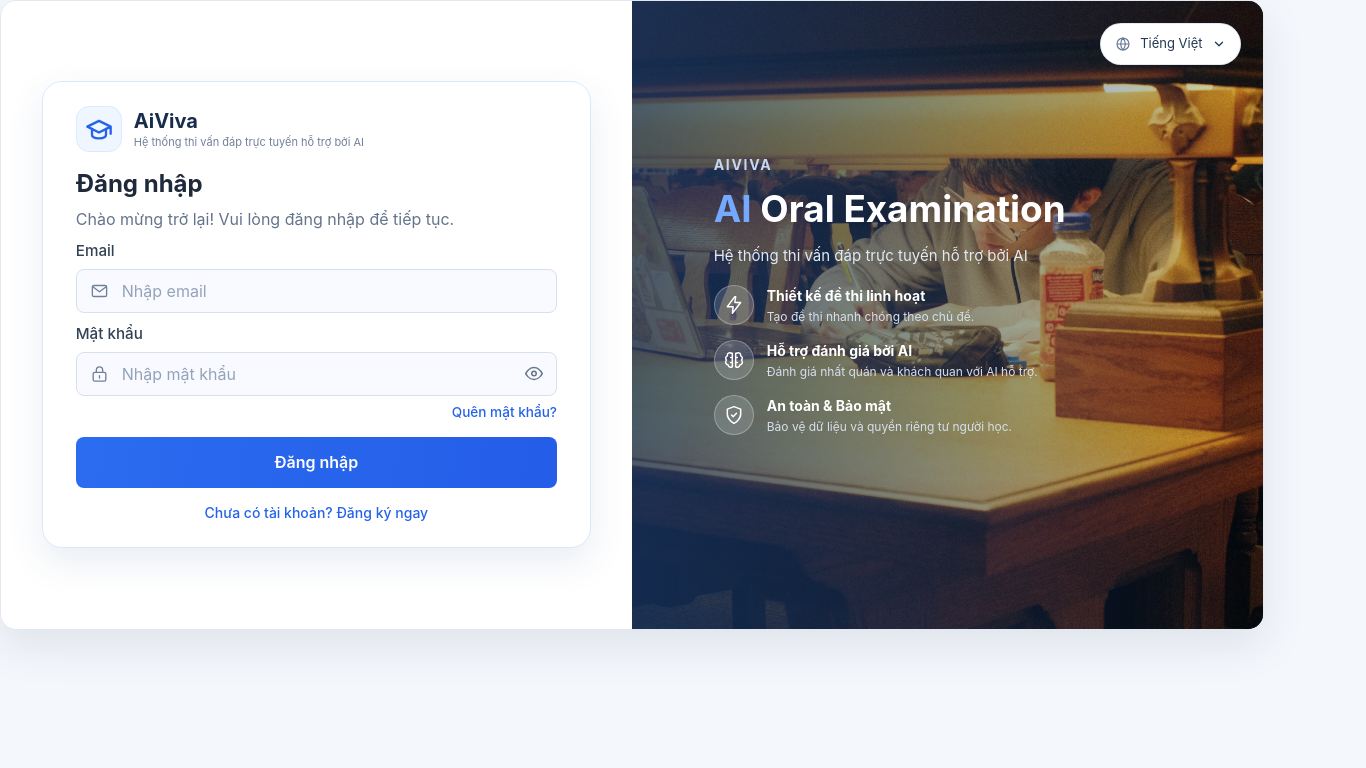
it: LoginPage › keeps the login form and reports an error when authentication fails
In the field labelled "Email": (316, 291) [76,269,557,313], type "student@example.com"
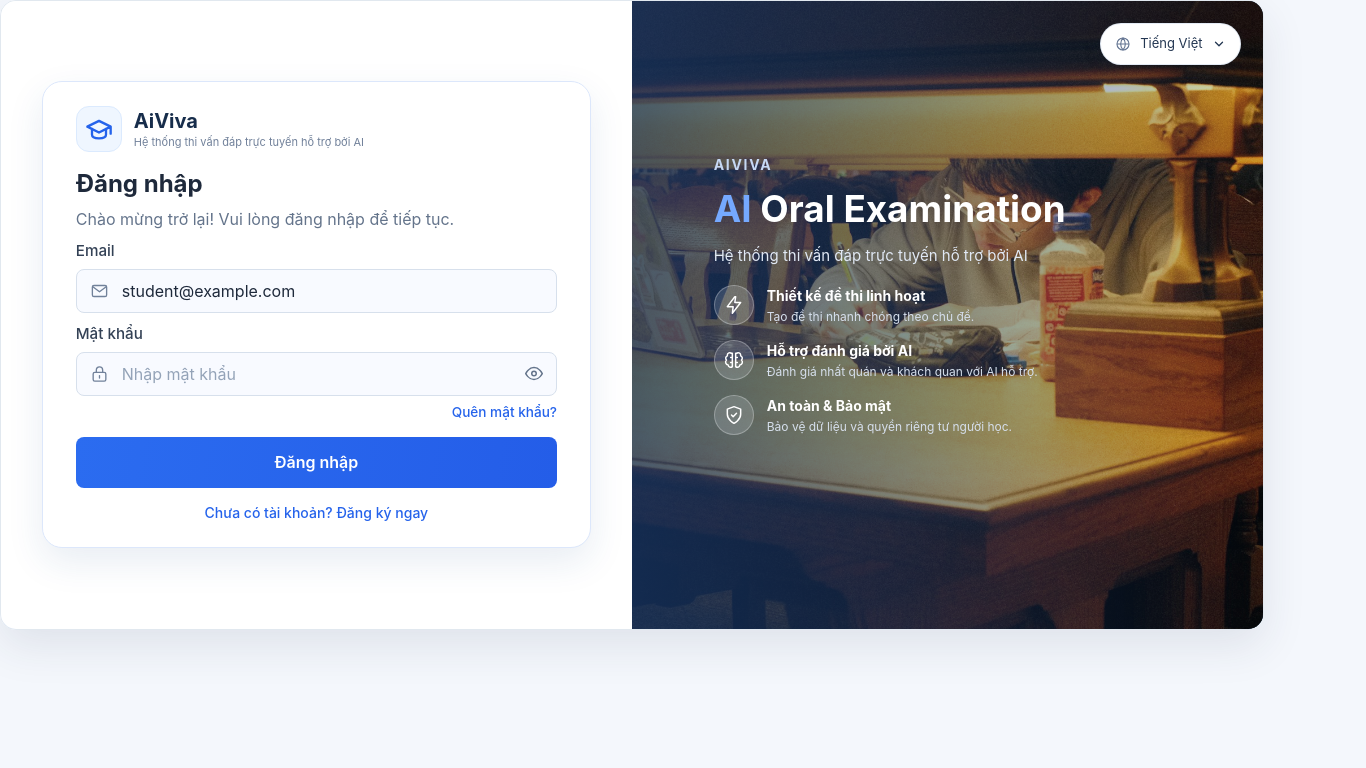
In the password field labelled "Mật khẩu": (316, 374) [76,352,557,396], type "wrong"
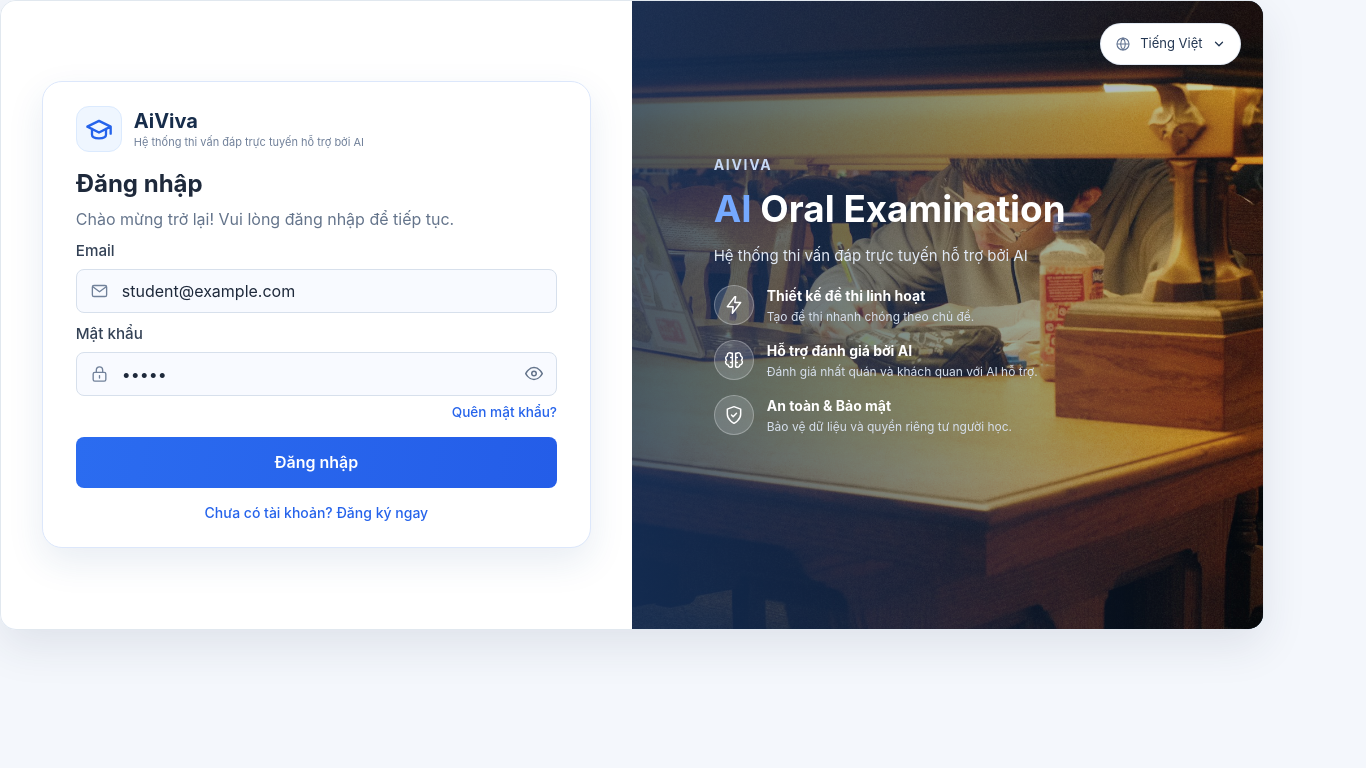
Click the button "Đăng nhập": (316, 462) [76,437,557,488]
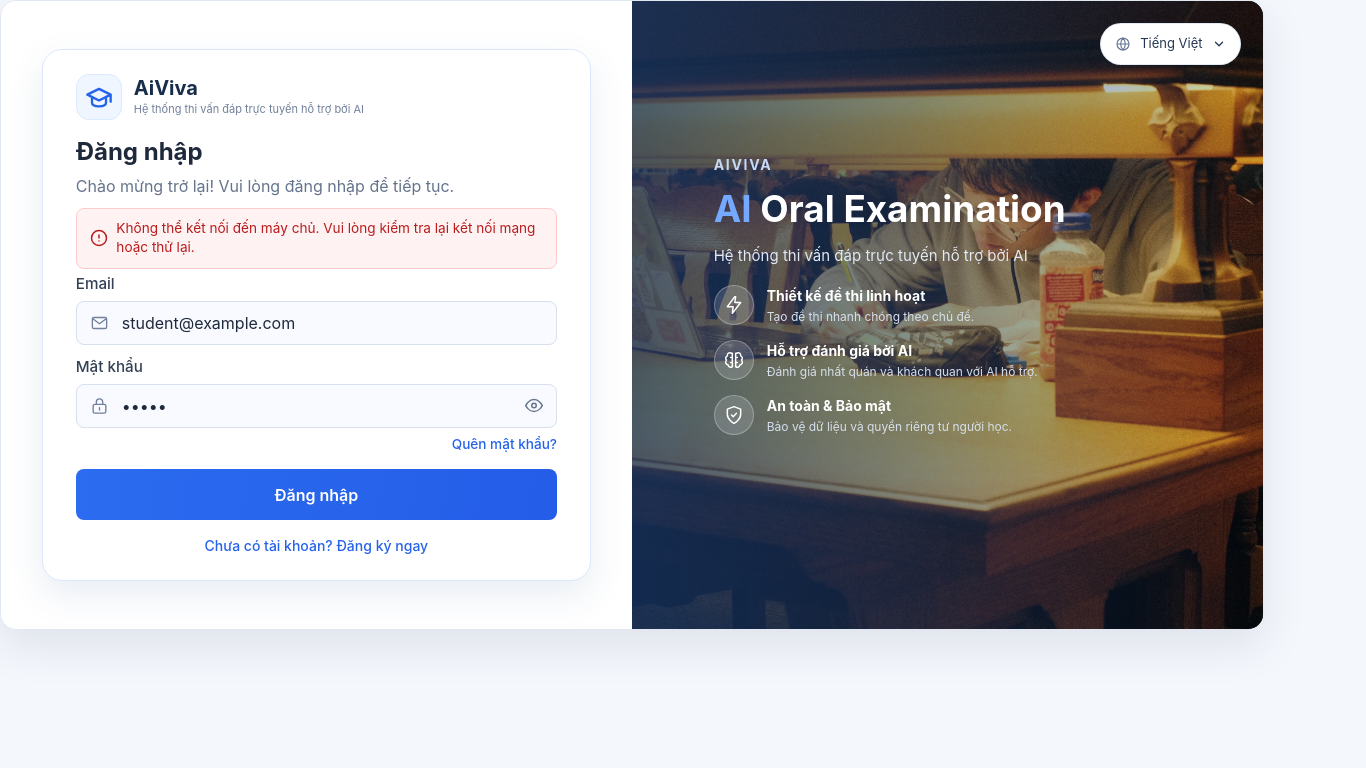
Check: the message is shown, box [76,208,557,269]
